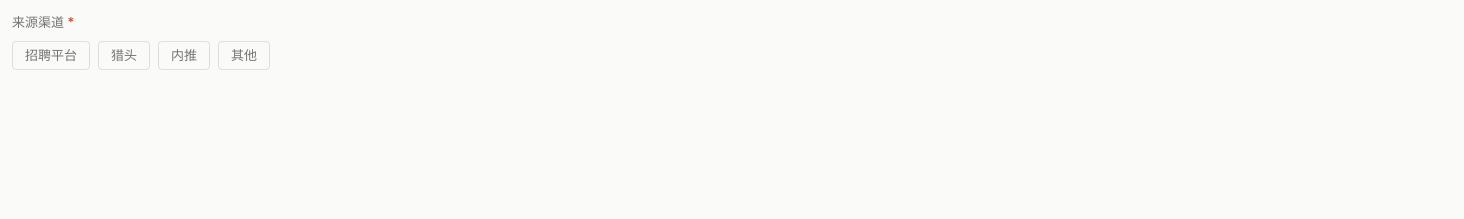
SourceChannelPicker › 平台支持内联新增并自动选中
Click the button with class "channel-tab" showing "招聘平台": [51, 55] box 12,40 -> 90,70
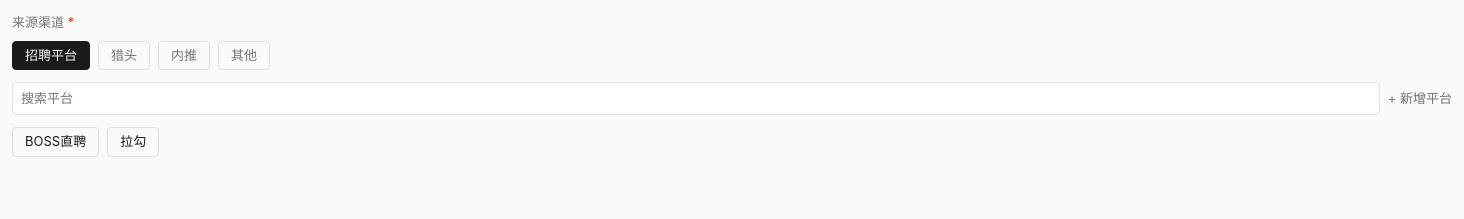
Click the button with class "sub-add": [1420, 99] box 1388,89 -> 1452,108
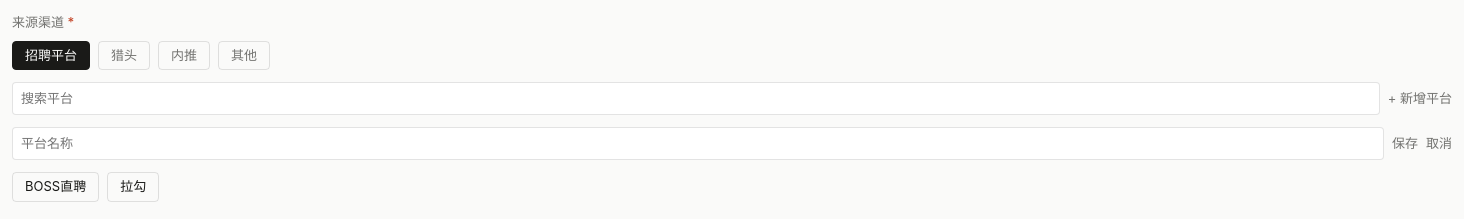
In the field with placeholder "平台名称": [698, 144] box 12,127 -> 1384,160, type "脉脉"
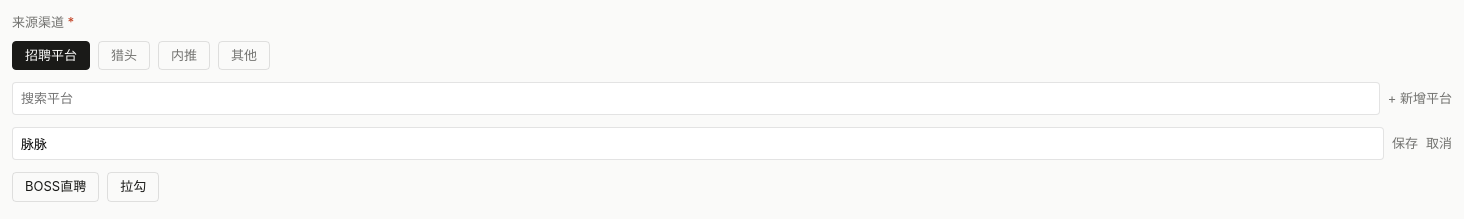
Click the button "保存": [1405, 144] box 1392,134 -> 1418,153
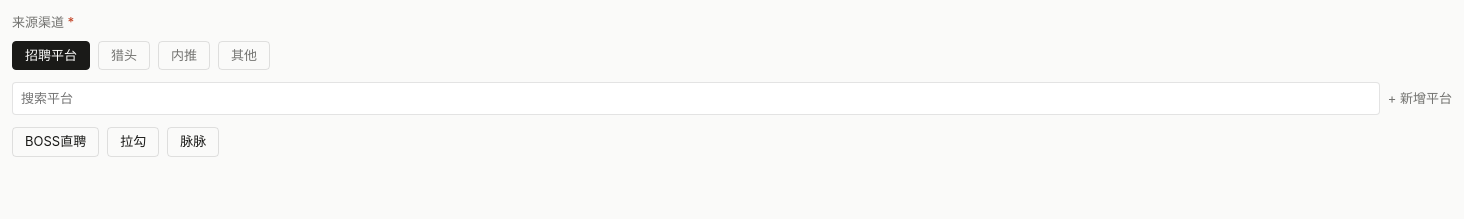
expect the button with class "sub-option" reads "脉脉": met, box 167,127 -> 219,156
